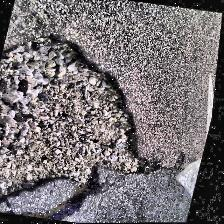pothole: (0, 28, 174, 224)
